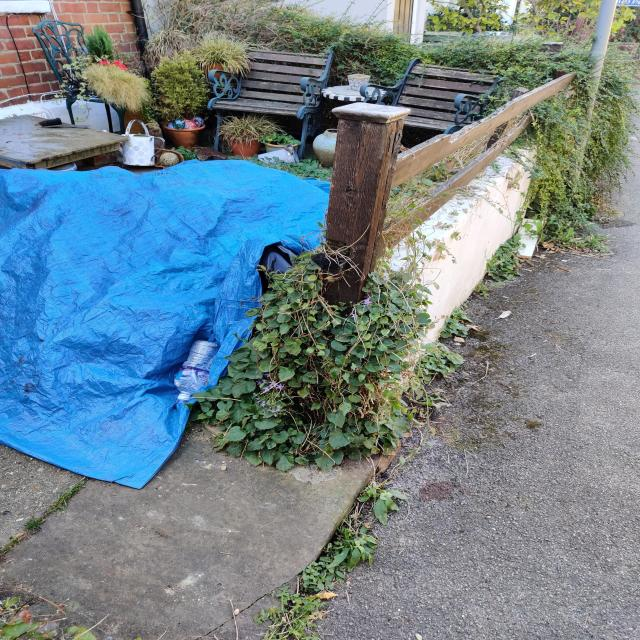litter: (148, 326, 245, 413)
